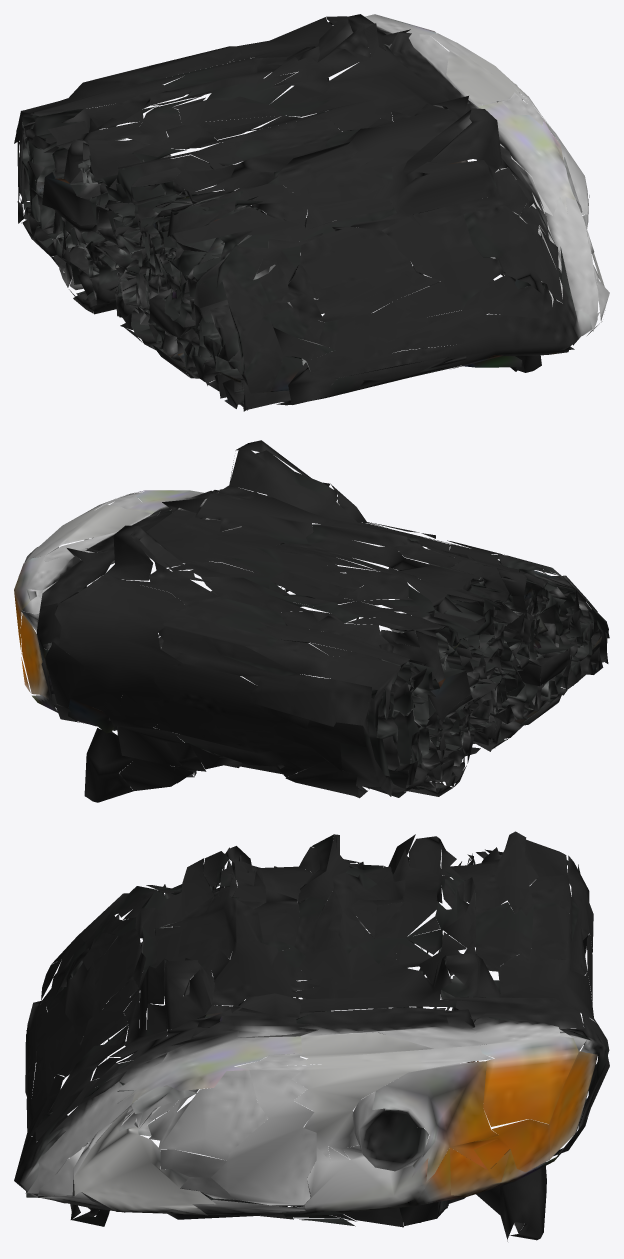
The model's file is drago_headlight.glb.
The picture shows the model from 3 angles, top to bottom: view 1: azimuth 30°, elevation 25°; view 2: azimuth 150°, elevation 25°; view 3: azimuth 270°, elevation 25°; orthographic projection. The views are drawn at different scales.
Parts seen in each view (by area): view 1: tripo_node_e571520c-e3c9-4228-b89d-b344024b6936; view 2: tripo_node_e571520c-e3c9-4228-b89d-b344024b6936; view 3: tripo_node_e571520c-e3c9-4228-b89d-b344024b6936.
Part boxes in pixels (left/top/right/bottom): tripo_node_e571520c-e3c9-4228-b89d-b344024b6936: left=14, top=14, right=609, bottom=411; tripo_node_e571520c-e3c9-4228-b89d-b344024b6936: left=14, top=440, right=609, bottom=802; tripo_node_e571520c-e3c9-4228-b89d-b344024b6936: left=14, top=831, right=609, bottom=1241.
Bounding box in the file's own units: 0.9769 × 0.5247 × 1.
1 material, 1 textured.
